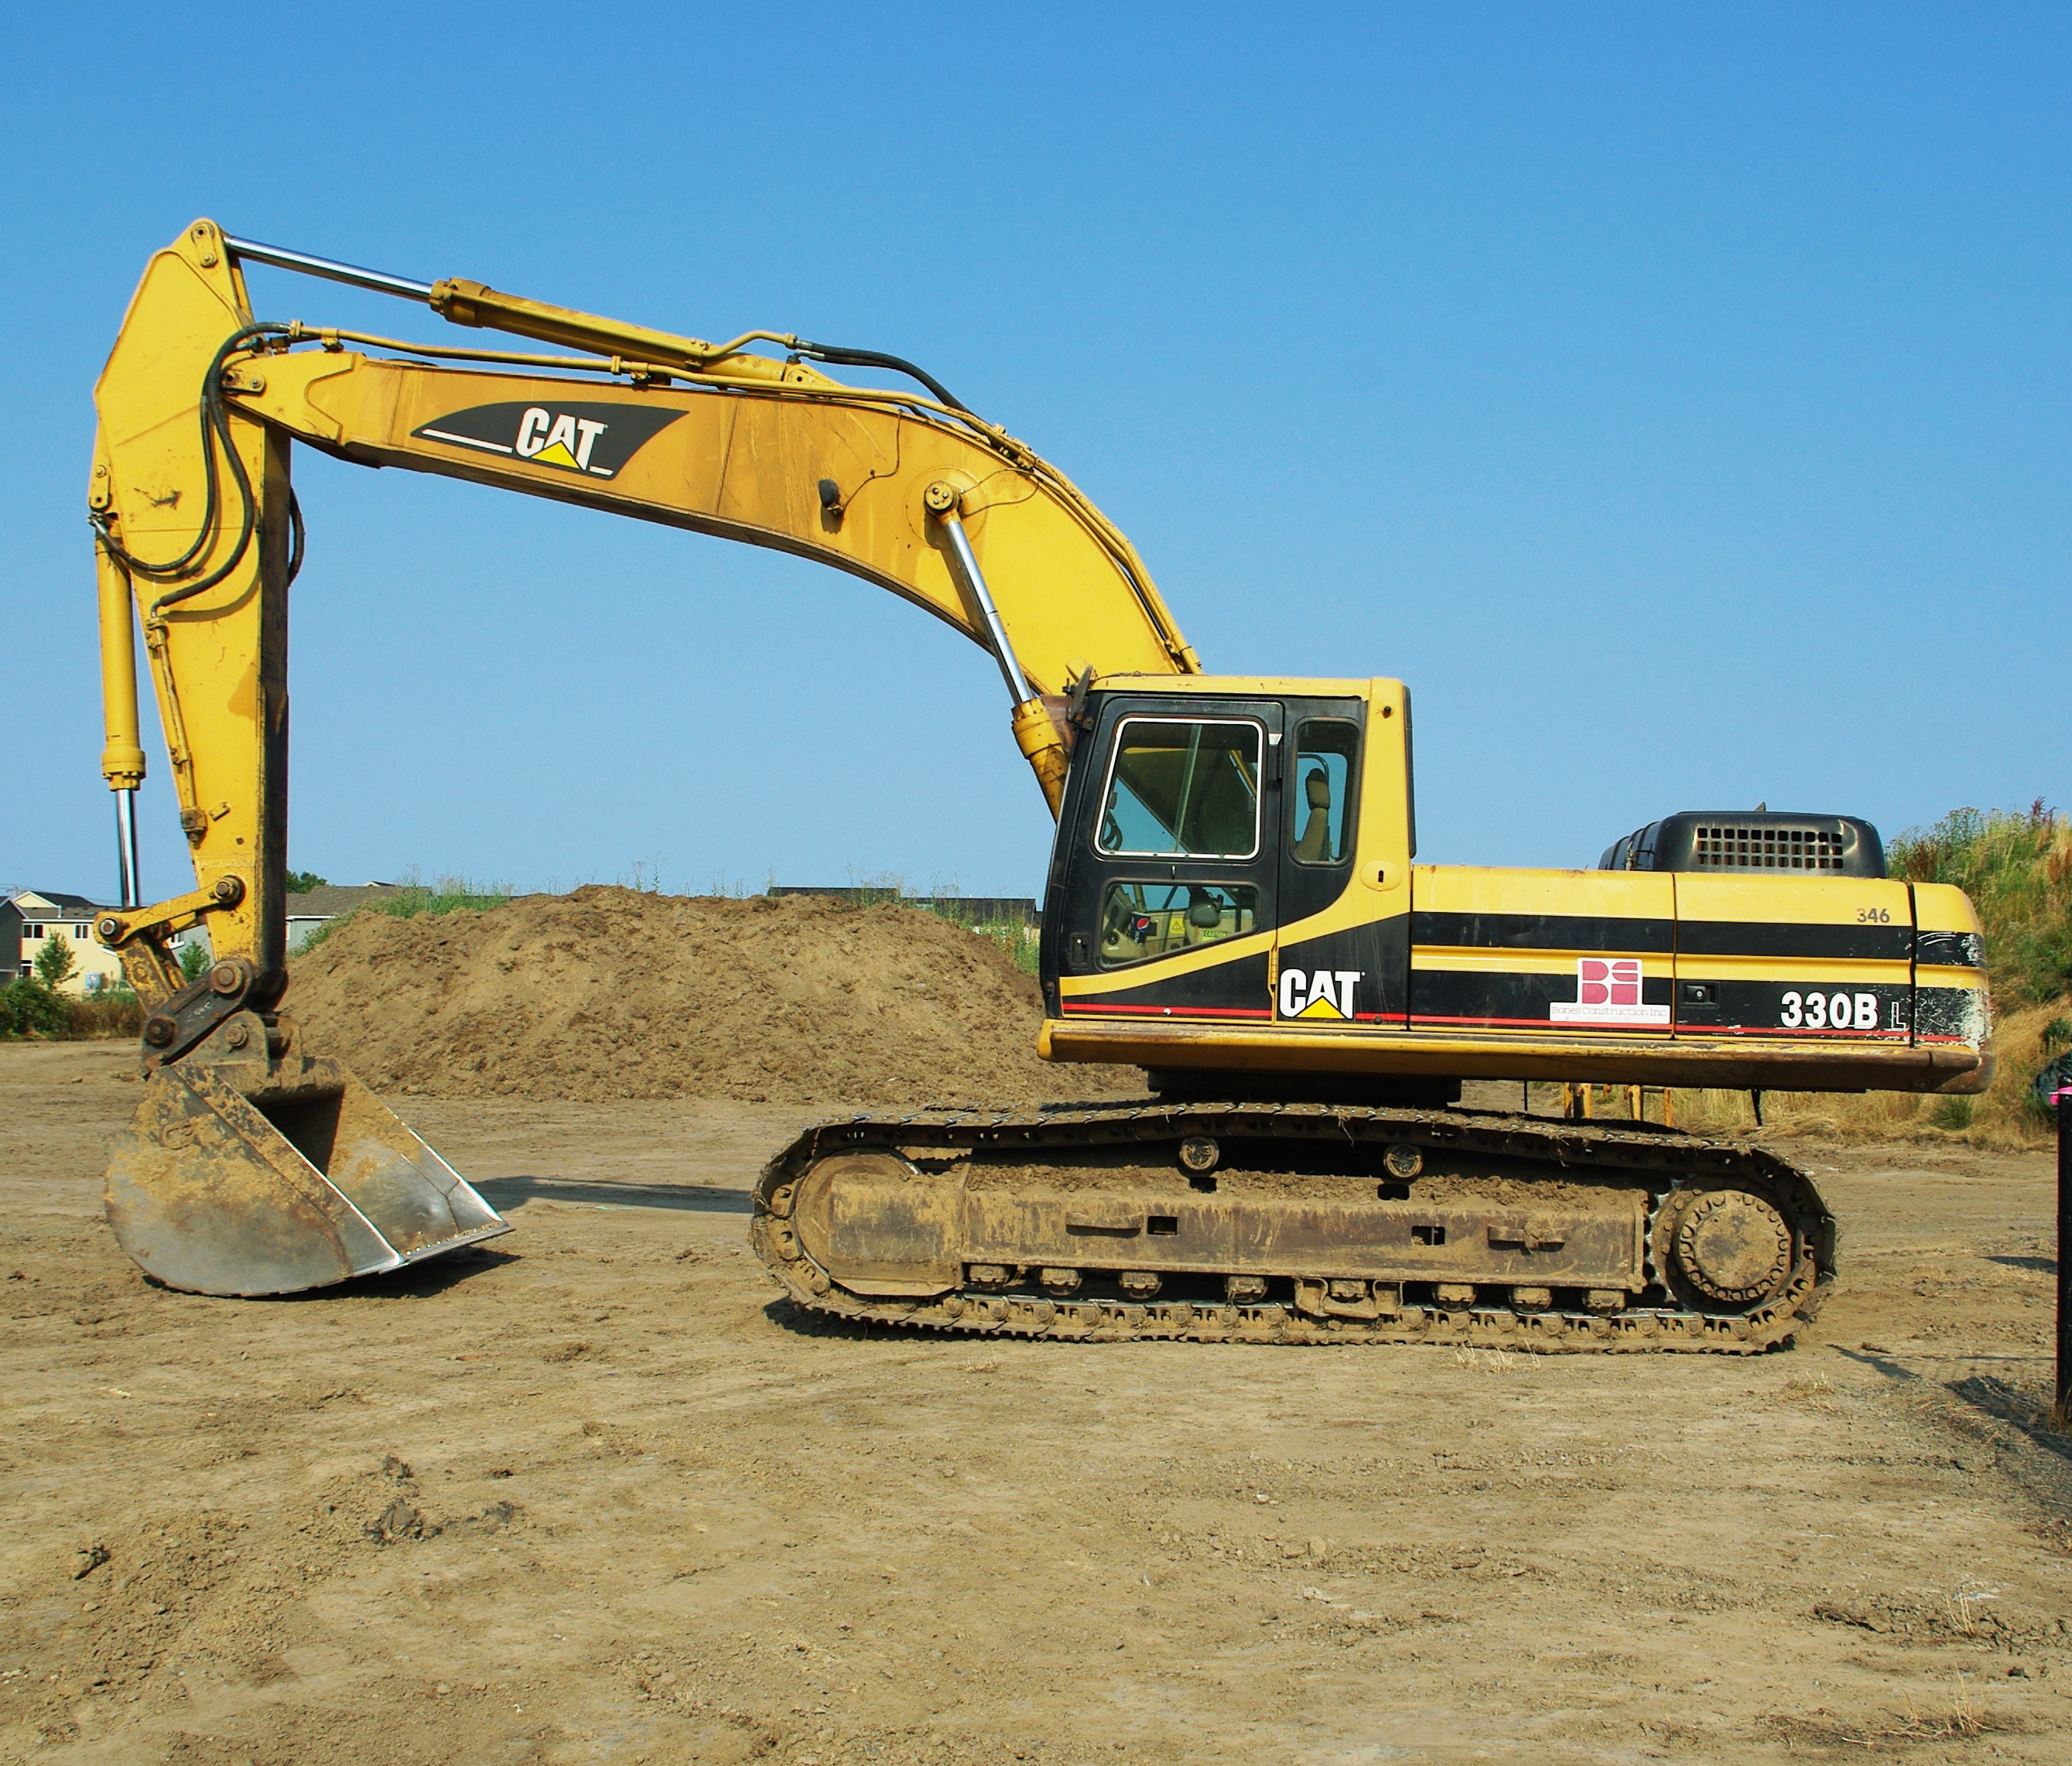excavator: (56, 212, 2021, 1384)
